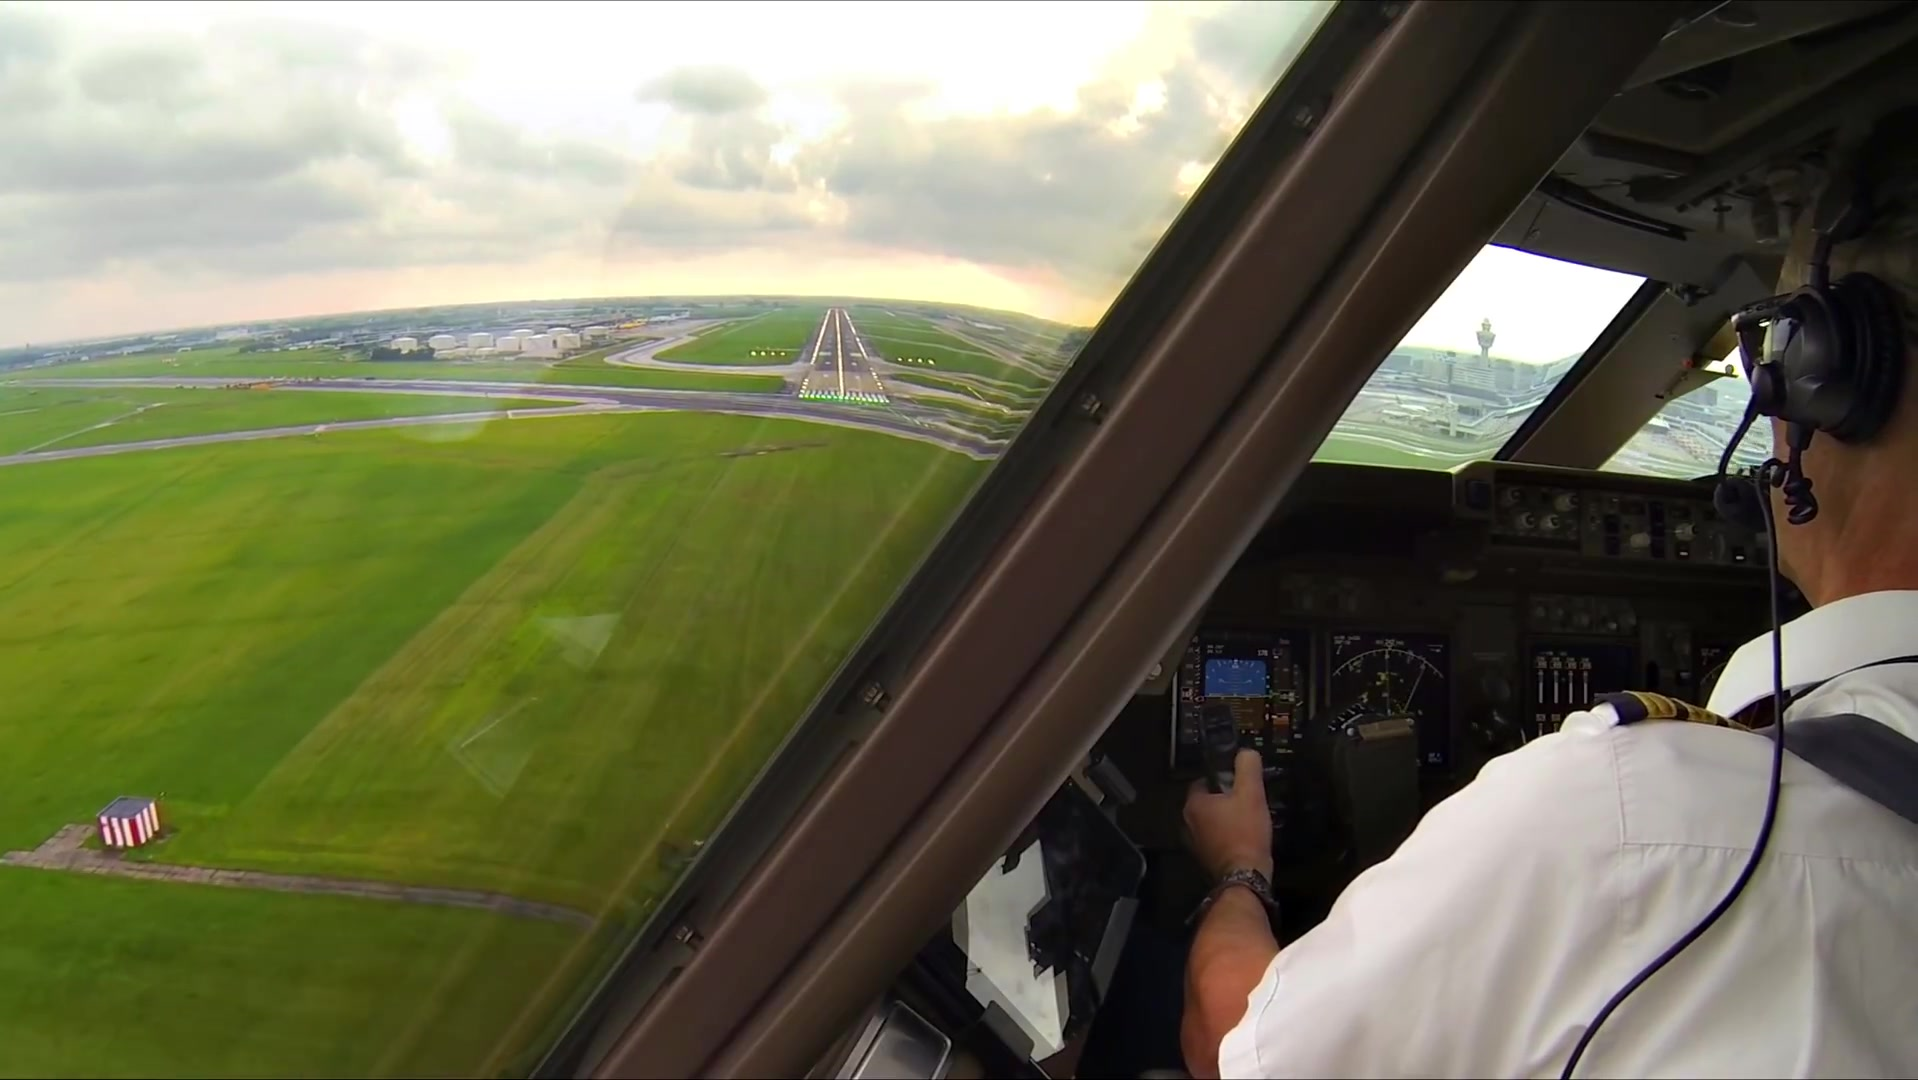entrance: (800, 389, 890, 402)
runway: (793, 306, 898, 414)
